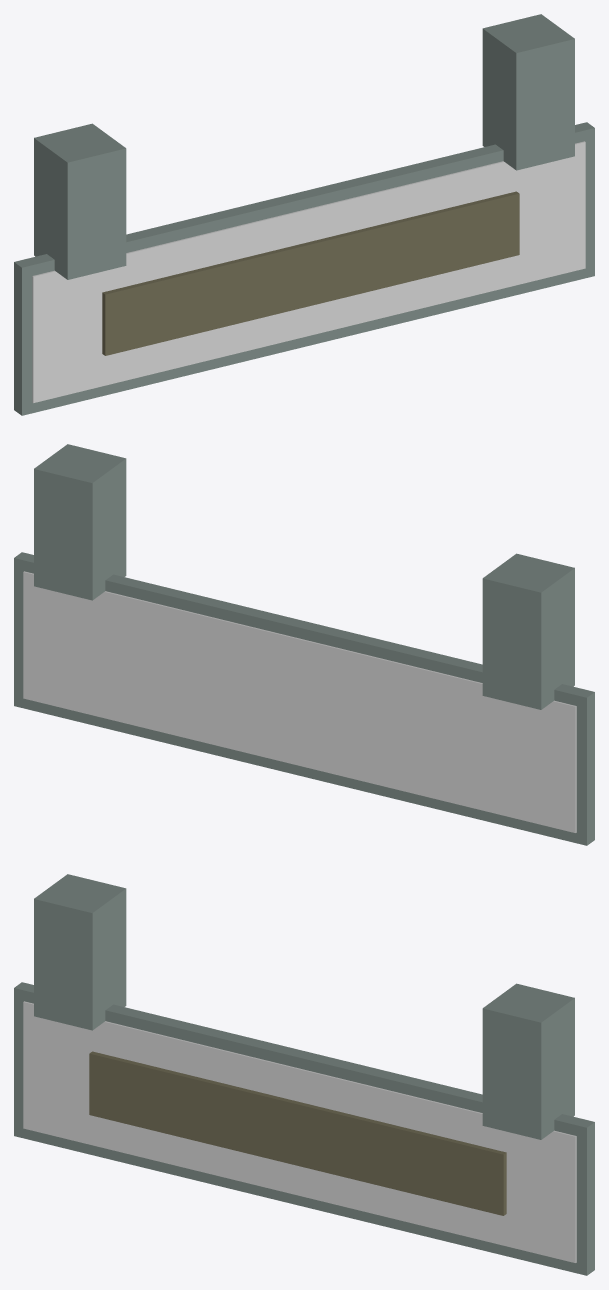
The model's file is SM_CartelEstacion_v1_Colgado_LOD1.fbx.
The picture shows the model from 3 angles, top to bottom: view 1: azimuth 30°, elevation 25°; view 2: azimuth 150°, elevation 25°; view 3: azimuth 330°, elevation 25°; orthographic projection.
Visible parts, largest first — view 1: SM_cartel_estacion_v1_LOD1; view 2: SM_cartel_estacion_v1_LOD1; view 3: SM_cartel_estacion_v1_LOD1.
Boxes of the visible parts, x1,y1,x2,y2 form: SM_cartel_estacion_v1_LOD1: (14,14,594,415); SM_cartel_estacion_v1_LOD1: (14,444,594,845); SM_cartel_estacion_v1_LOD1: (14,874,594,1275).
Bounding box in the file's own units: 3.32 × 1.41 × 0.34.
